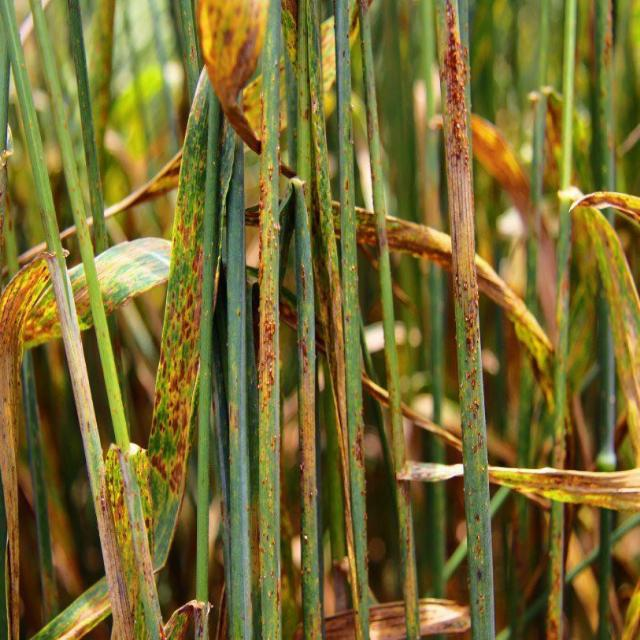wheat-septoria: (147, 105, 210, 543)
